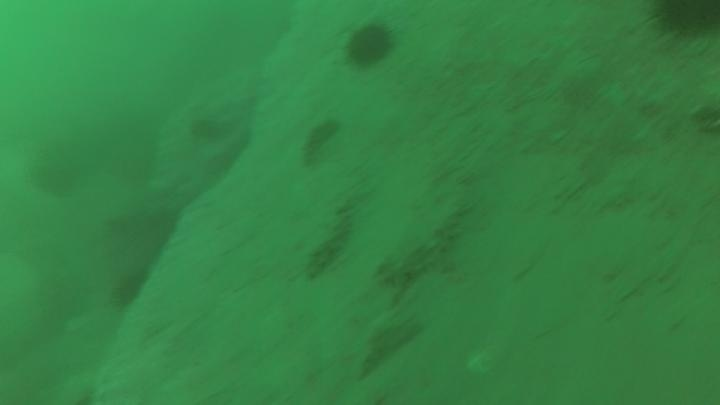echinus: (646, 1, 720, 41), (342, 20, 397, 71), (108, 267, 152, 312)
